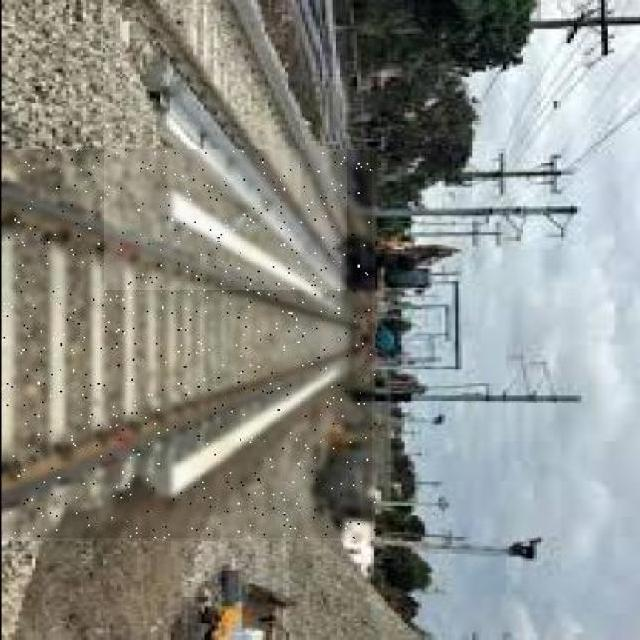rail: (4, 151, 373, 539), (105, 1, 348, 291)
